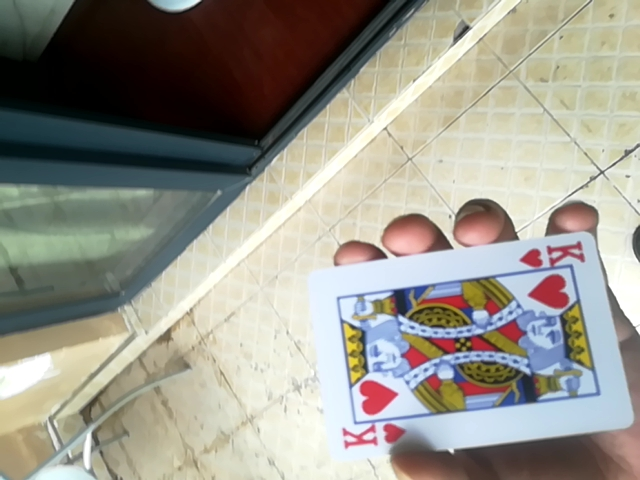hx k: (302, 229, 630, 463)
